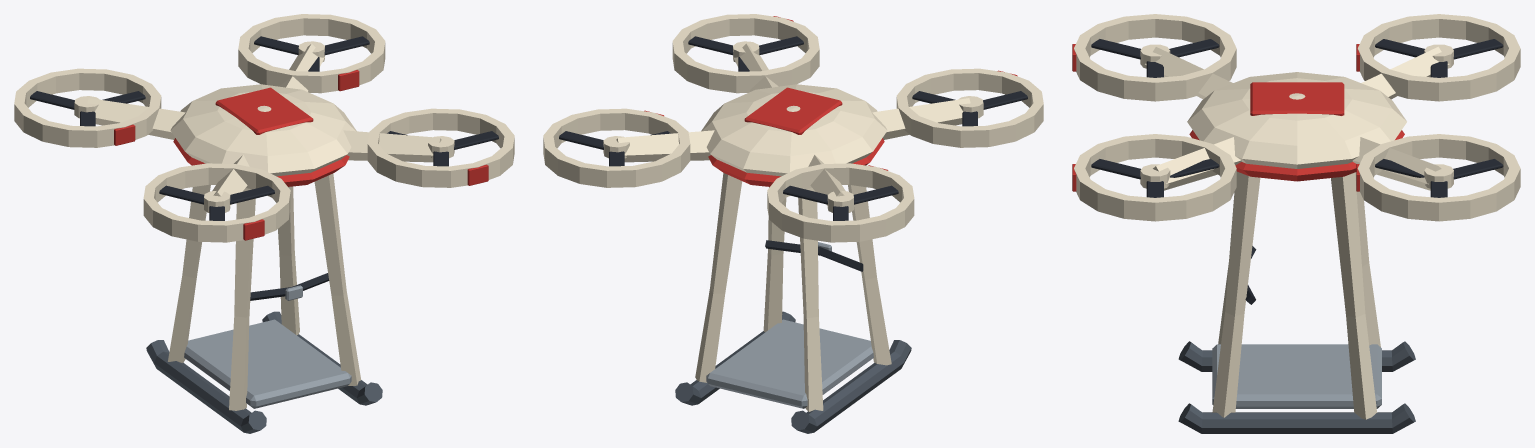
The model's file is RescueDrone.fbx.
3 views of the same model, side by side, from view 1: azimuth 30°, elevation 25°; view 2: azimuth 150°, elevation 25°; view 3: azimuth 270°, elevation 25° (orthographic). The views are drawn at different scales.
Parts seen in each view (by area): view 1: Body.008, Body.027, Body.019, Body.013, Body.016, Body.010, Body.024, Body.023, Body.025, Body.022, Body.018, Body.021 (+9 smaller); view 2: Body.008, Body.027, Body.010, Body.016, Body.013, Body.019, Body.021, Body.022, Body.025, Body.023, Body.009, Body.024 (+9 smaller); view 3: Body.008, Body.027, Body.019, Body.010, Body.013, Body.016, Body.021, Body.024, Body.026, Body.020, Body.011, Body.014 (+7 smaller).
Boxes of the visible parts, x1,y1,x2,y2 form: Body.008: (170, 84, 356, 186); Body.027: (184, 319, 351, 408); Body.019: (367, 108, 514, 187); Body.013: (14, 68, 161, 147); Body.016: (143, 163, 290, 242); Body.010: (238, 14, 385, 93); Body.024: (314, 173, 361, 385); Body.023: (229, 188, 255, 410); Body.025: (146, 340, 266, 433); Body.022: (168, 184, 210, 362); Body.018: (343, 130, 441, 162); Body.021: (278, 186, 299, 335); Body.008: (701, 84, 887, 186); Body.027: (706, 319, 873, 408); Body.010: (543, 108, 690, 187); Body.016: (896, 68, 1043, 147); Body.013: (767, 163, 914, 242); Body.019: (672, 14, 819, 93); Body.021: (695, 173, 742, 382); Body.022: (798, 188, 823, 411); Body.025: (791, 340, 911, 433); Body.023: (848, 184, 891, 365); Body.009: (616, 130, 714, 162); Body.024: (763, 187, 786, 332); Body.008: (1187, 72, 1406, 181); Body.027: (1212, 344, 1381, 408); Body.019: (1072, 134, 1236, 221); Body.010: (1356, 134, 1520, 221); Body.013: (1356, 14, 1520, 101); Body.016: (1072, 14, 1236, 101); Body.021: (1331, 172, 1377, 419); Body.024: (1212, 171, 1260, 417); Body.026: (1178, 403, 1415, 433); Body.020: (1091, 159, 1219, 197); Body.011: (1375, 159, 1503, 197); Body.014: (1375, 39, 1503, 77).
Size of the model in its own units: 3.89 by 2.95 by 3.91.
